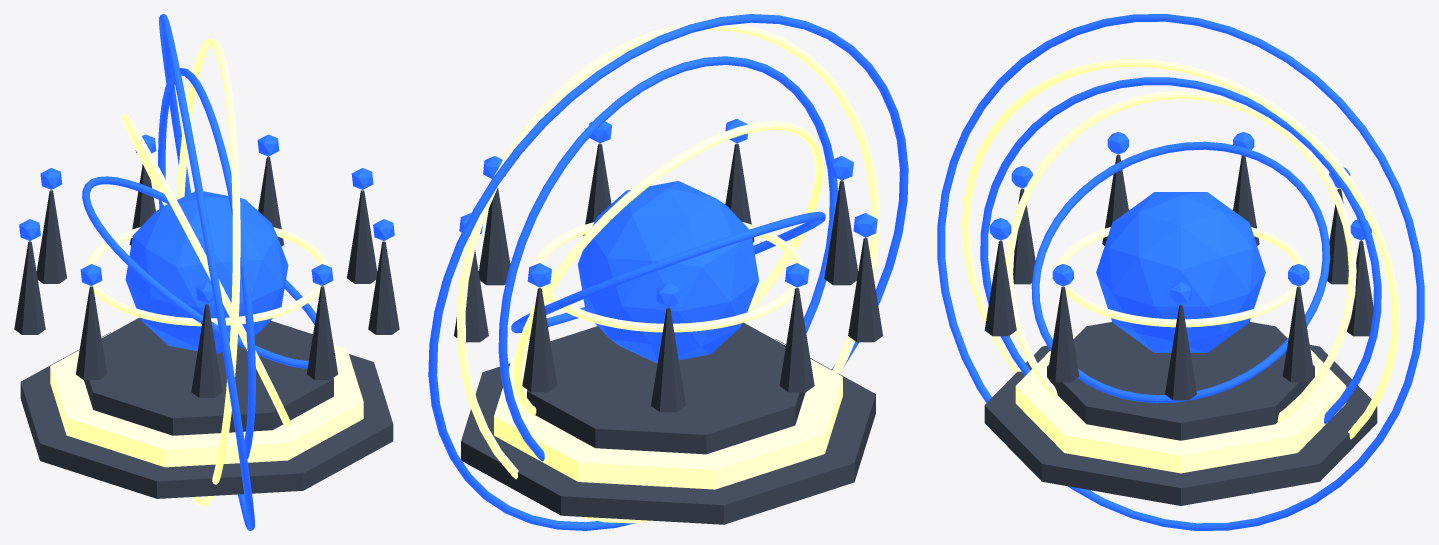
Rendered from gpu-blender-v35.glb.
3 views of the same model, side by side, from view 1: azimuth 30°, elevation 25°; view 2: azimuth 150°, elevation 25°; view 3: azimuth 270°, elevation 25° (orthographic). The views are drawn at different scales.
Parts seen in each view (by area): view 1: Cylinder.002, Cylinder, SovereignCore_vision-gesture-control, Cylinder.001, Torus.005, Torus.004, Torus.003, Torus.001, Torus.002, Torus, Cone.006, Cone.004 (+7 smaller); view 2: Cylinder.002, SovereignCore_vision-gesture-control, Cylinder, Cylinder.001, Torus.005, Torus.004, Torus.003, Torus.002, Torus.001, Torus, Cone.003, Cone.005 (+7 smaller); view 3: SovereignCore_vision-gesture-control, Cylinder.002, Cylinder, Cylinder.001, Torus.005, Torus.004, Torus.003, Torus.002, Torus.001, Torus, Cone, Cone.001 (+7 smaller).
Part boxes in pixels (<box>): Cylinder.002: <box>84,317,333,435</box>; Cylinder: <box>20,332,393,498</box>; SovereignCore_vision-gesture-control: <box>125,191,288,353</box>; Cylinder.001: <box>50,324,363,467</box>; Torus.005: <box>159,14,254,530</box>; Torus.004: <box>176,38,240,506</box>; Torus.003: <box>158,68,255,459</box>; Torus.001: <box>82,176,316,368</box>; Torus.002: <box>122,114,290,426</box>; Torus: <box>85,227,327,326</box>; Cone.006: <box>191,304,222,397</box>; Cone.004: <box>14,241,45,334</box>; Cylinder.002: <box>527,322,805,454</box>; SovereignCore_vision-gesture-control: <box>578,181,758,363</box>; Cylinder: <box>461,339,875,524</box>; Cylinder.001: <box>494,330,842,489</box>; Torus.005: <box>428,14,908,530</box>; Torus.004: <box>457,22,879,523</box>; Torus.003: <box>498,56,838,461</box>; Torus.002: <box>513,121,823,415</box>; Torus.001: <box>511,211,825,333</box>; Torus: <box>533,222,803,332</box>; Cone.003: <box>651,307,685,412</box>; Cone.005: <box>848,237,882,342</box>; SovereignCore_vision-gesture-control: <box>1096,192,1265,352</box>; Cylinder.002: <box>1047,322,1314,440</box>; Cylinder: <box>984,345,1377,505</box>; Cylinder.001: <box>1015,334,1346,473</box>; Torus.005: <box>937,14,1424,530</box>; Torus.004: <box>962,59,1399,439</box>; Torus.003: <box>980,77,1381,423</box>; Torus.002: <box>1006,90,1356,423</box>; Torus.001: <box>1031,141,1330,403</box>; Torus: <box>1057,227,1304,327</box>; Cone: <box>1165,304,1196,400</box>; Cone.001: <box>1282,286,1314,382</box>.
Bounding box in the file's own units: 4.41 × 5.93 × 5.46.
